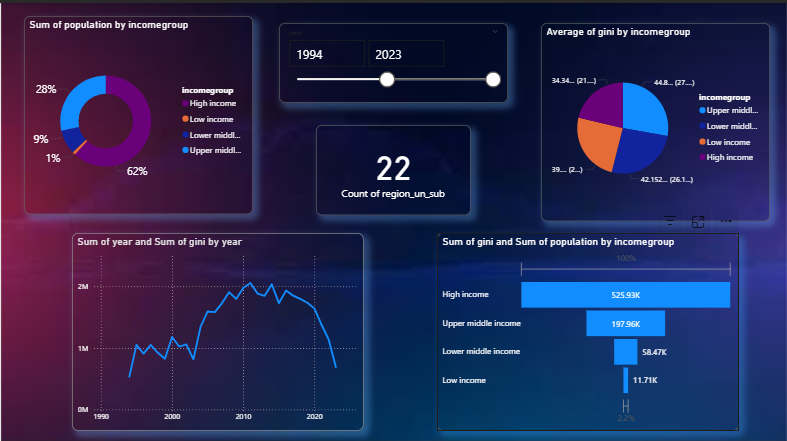

What the dashboard file says about the page in this screenshot:
{"tool":"powerbi","page":{"name":"Page 2","canvas":[1280,720],"ordinal":1},"visuals":[{"type":"donutChart","fields":{"Y":["Sum(Sheet1.population)"],"Series":["Sheet1.incomegroup"]},"box":[36.7,21.7,373.3,323.3],"z":0},{"type":"slicer","fields":{"Values":["Sheet1.year"]},"box":[453.3,33.3,373.3,130],"z":1000},{"type":"pieChart","fields":{"Category":["Sheet1.incomegroup"],"Y":["Avg(Sheet1.gini)"]},"box":[880,33.3,373.3,323.3],"z":2000},{"type":"card","fields":{"Values":["Count(Sheet1.region_un_sub)"]},"box":[513.3,198.3,251.7,146.7],"z":3000},{"type":"lineChart","fields":{"Category":["Sheet1.year"],"Y":["Sum(Sheet1.year)"]},"box":[115,375,475,321.7],"z":4000},{"type":"funnel","fields":{"Category":["Sheet1.incomegroup"],"Y":["Sum(Sheet1.gini)"]},"box":[710,375,491.7,321.7],"z":5000}]}

Visuals, with their boxes in screenshot pixels (x1, y1, x2, y2), scaled from the page's 1280x720 canvas onto the 787x441 screenshot:
donutChart - Sum(Sheet1.population) x Sheet1.incomegroup: l=23, t=13, r=252, b=211
slicer - Sheet1.year: l=279, t=20, r=508, b=100
pieChart - Sheet1.incomegroup x Avg(Sheet1.gini): l=541, t=20, r=771, b=218
card - Count(Sheet1.region_un_sub): l=316, t=121, r=470, b=211
lineChart - Sheet1.year x Sum(Sheet1.year): l=71, t=230, r=363, b=427
funnel - Sheet1.incomegroup x Sum(Sheet1.gini): l=437, t=230, r=739, b=427
